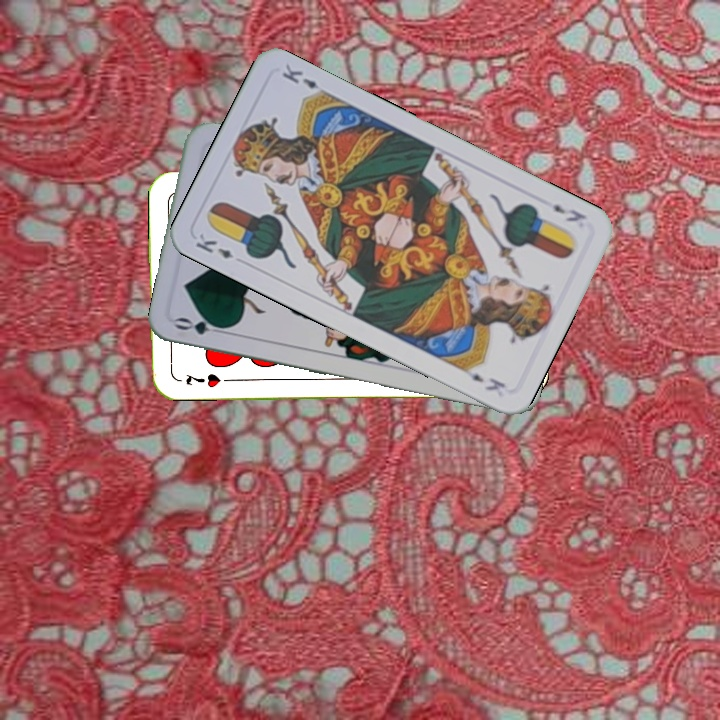EK: (191, 229, 236, 261), (549, 200, 589, 225)
GO: (171, 313, 232, 337)
H7: (182, 370, 233, 391)
